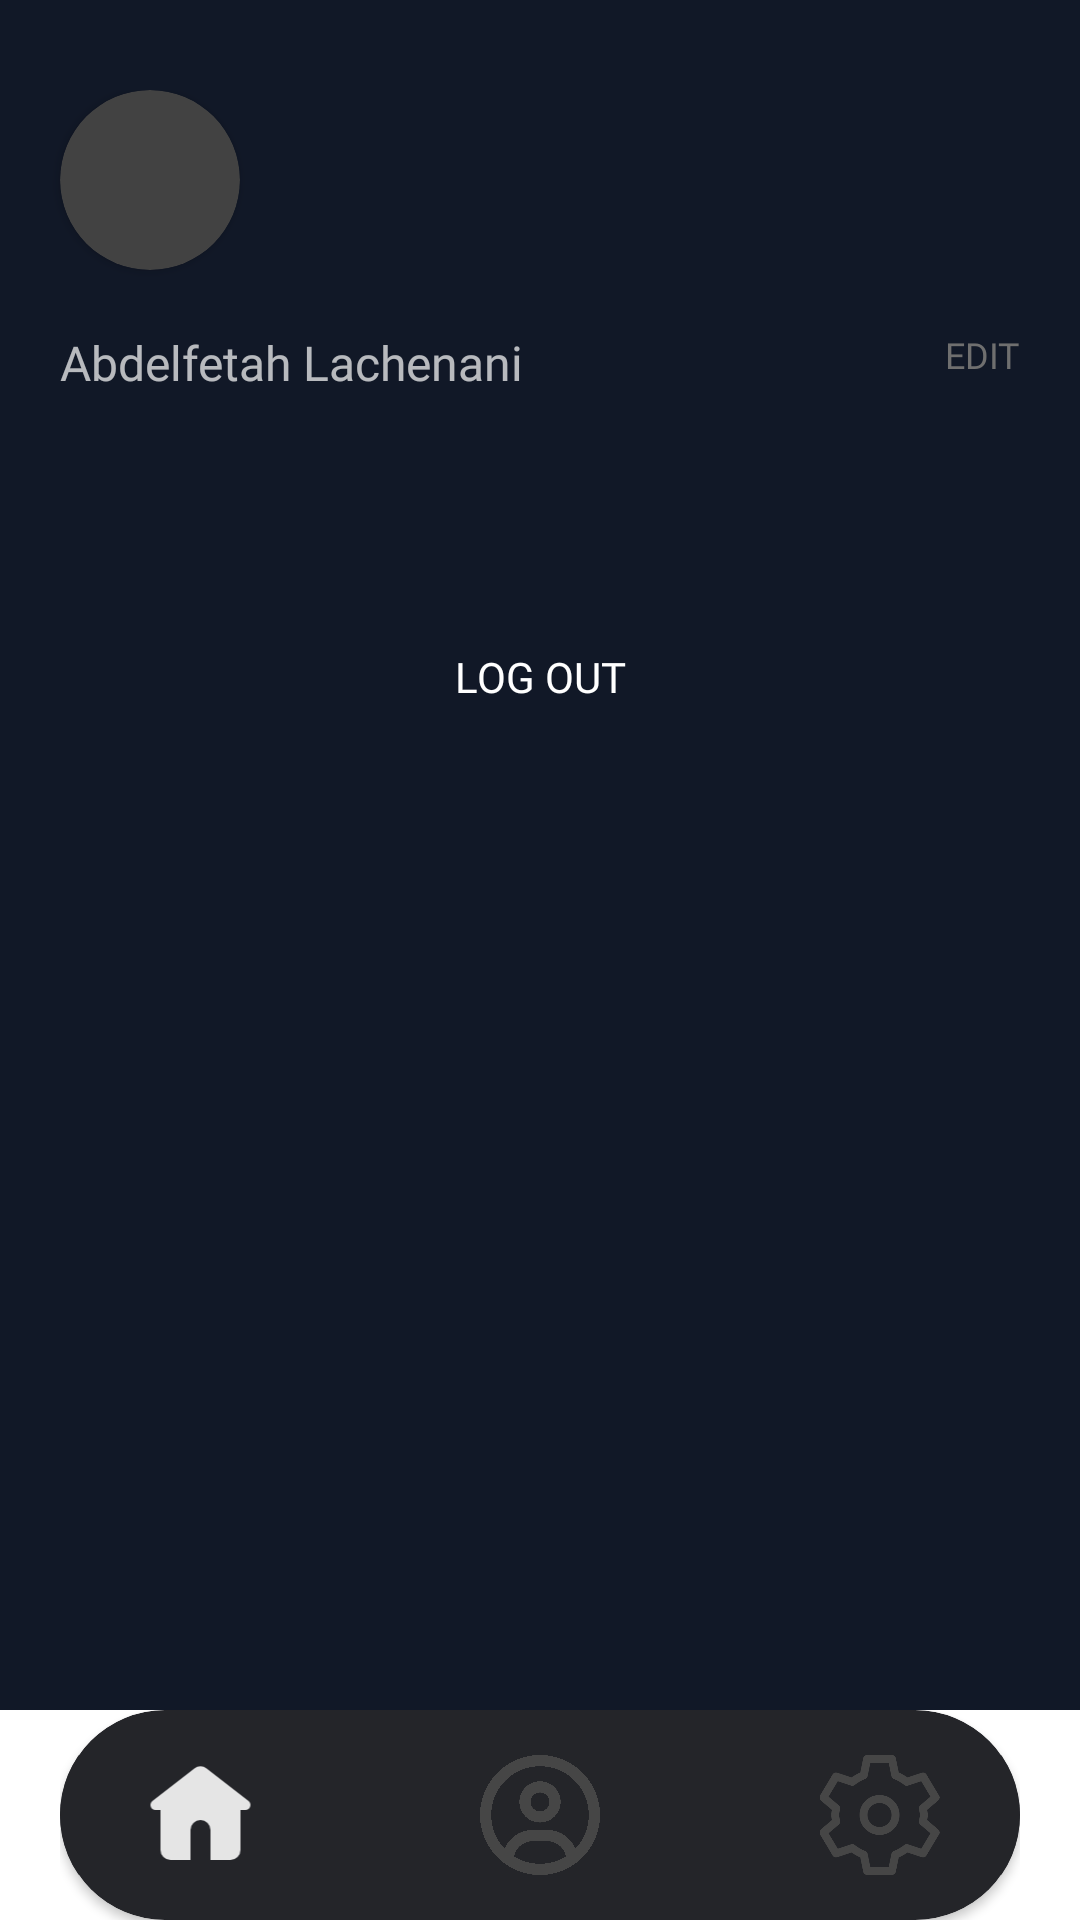

Icons on this 1080px x 1920px Android screen, each with its box as {"left": x1, "top": y1, "right": x2, "bottom": y2}:
circle user: {"left": 480, "top": 1755, "right": 600, "bottom": 1875}
cog: {"left": 820, "top": 1755, "right": 940, "bottom": 1875}
home: {"left": 150, "top": 1766, "right": 251, "bottom": 1860}
